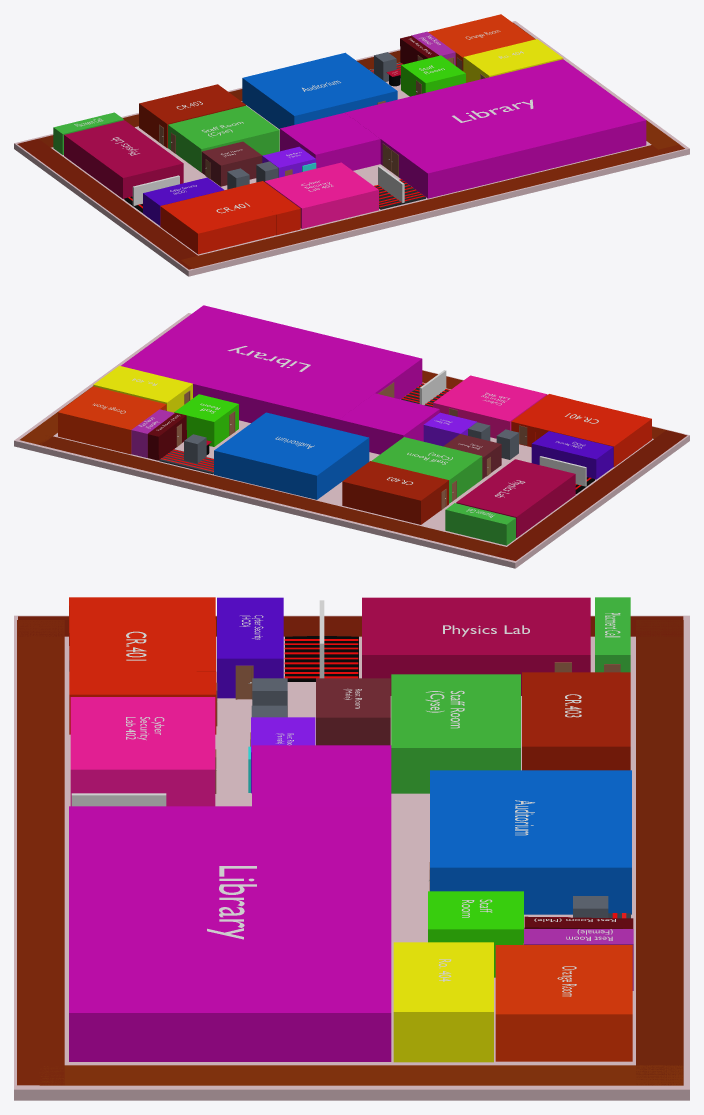
The model's file is map3.glb.
The picture shows the model from 3 angles, top to bottom: view 1: azimuth 30°, elevation 25°; view 2: azimuth 150°, elevation 25°; view 3: azimuth 270°, elevation 25°; orthographic projection. The views are drawn at different scales.
Visible parts, largest first — view 1: Cube.005, Cube, Cube.023, Cube.009, Cube.025, Cube.002, Cube.007, Cube.015, Cube.012, Cube.026, Cube.016, Cube.018 (+14 smaller); view 2: Cube.005, Cube.023, Cube, Cube.024, Cube.009, Cube.002, Cube.016, Cube.018, Cube.026, Cube.007, Cube.012, Cube.015 (+15 smaller); view 3: Cube.005, Cube, Cube.023, Cube.025, Cube.024, Cube.002, Cube.018, Cube.009, Cube.007, Cube.015, Cube.027, Cube.017 (+15 smaller).
Boxes of the visible parts, x1=… form: Cube.005: x1=345, y1=59, x2=646, y2=198; Cube: x1=14, y1=21, x2=689, y2=276; Cube.023: x1=242, y1=52, x2=397, y2=129; Cube.009: x1=160, y1=181, x2=300, y2=254; Cube.025: x1=181, y1=144, x2=684, y2=268; Cube.002: x1=64, y1=120, x2=183, y2=198; Cube.007: x1=264, y1=162, x2=378, y2=228; Cube.015: x1=168, y1=105, x2=279, y2=172; Cube.012: x1=280, y1=112, x2=380, y2=170; Cube.026: x1=17, y1=139, x2=197, y2=269; Cube.016: x1=139, y1=84, x2=245, y2=148; Cube.018: x1=428, y1=14, x2=535, y2=70; Cube.005: x1=121, y1=305, x2=422, y2=429; Cube.023: x1=214, y1=412, x2=369, y2=499; Cube: x1=14, y1=313, x2=689, y2=568; Cube.024: x1=29, y1=436, x2=520, y2=560; Cube.009: x1=511, y1=394, x2=651, y2=466; Cube.002: x1=456, y1=459, x2=575, y2=537; Cube.016: x1=342, y1=461, x2=448, y2=524; Cube.018: x1=58, y1=386, x2=166, y2=454; Cube.026: x1=495, y1=430, x2=687, y2=560; Cube.007: x1=433, y1=375, x2=547, y2=438; Cube.012: x1=339, y1=393, x2=439, y2=454; Cube.015: x1=371, y1=437, x2=482, y2=503; Cube.005: x1=69, y1=806, x2=391, y2=1061; Cube: x1=14, y1=615, x2=689, y2=1100; Cube.023: x1=430, y1=770, x2=631, y2=914; Cube.025: x1=17, y1=620, x2=64, y2=1085; Cube.024: x1=636, y1=620, x2=683, y2=1085; Cube.002: x1=362, y1=597, x2=590, y2=695; Cube.018: x1=495, y1=945, x2=632, y2=1061; Cube.009: x1=69, y1=597, x2=216, y2=734; Cube.007: x1=70, y1=697, x2=215, y2=806; Cube.015: x1=391, y1=674, x2=520, y2=793; Cube.027: x1=39, y1=1065, x2=683, y2=1085; Cube.017: x1=393, y1=942, x2=493, y2=1062.
Bounding box in the file's own units: 14.93 × 1.01 × 9.
